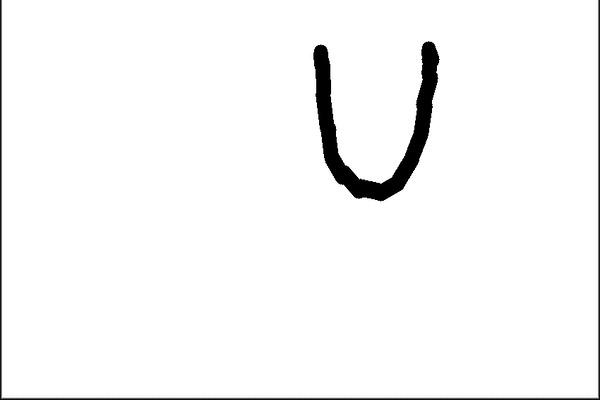U: (293, 32, 452, 206)
